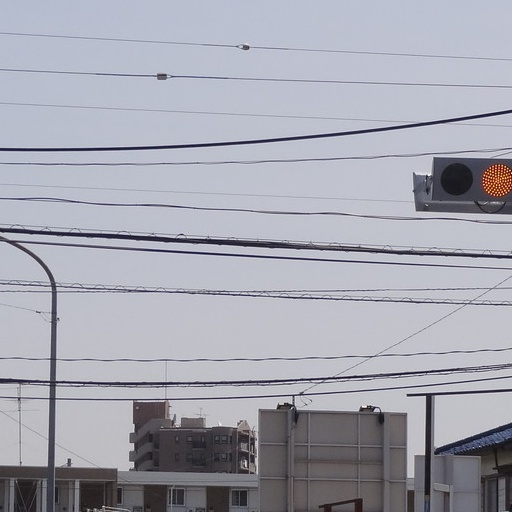Traffic_Signal_Yellow: (421, 151, 509, 207)
